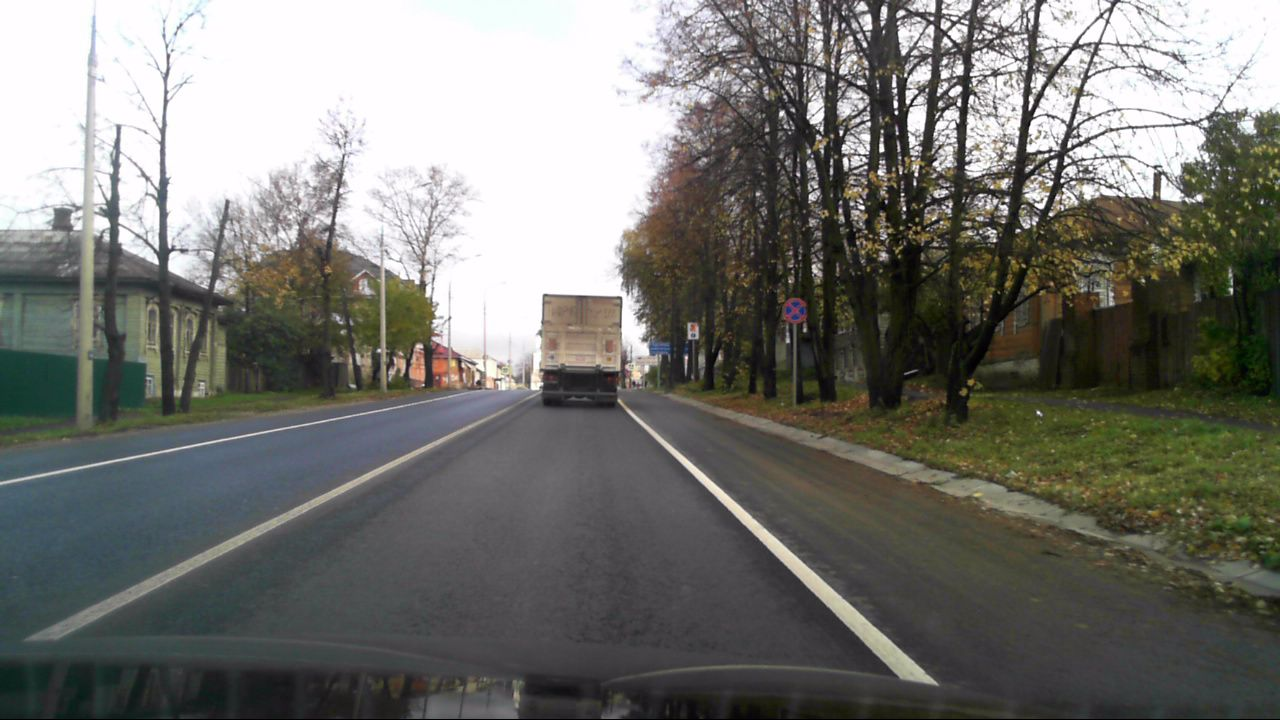No Parking: (782, 297, 809, 324)
